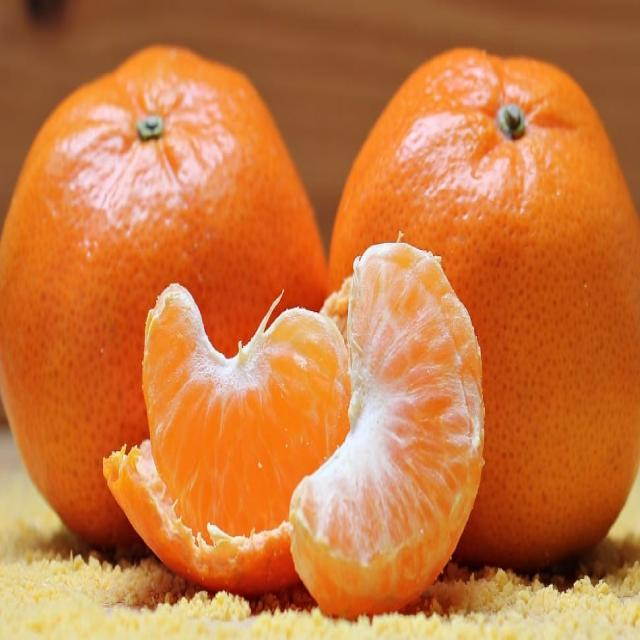orange: (329, 51, 640, 556), (0, 41, 264, 484), (288, 237, 484, 626), (118, 284, 298, 581)
